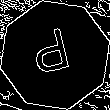P_S: (31, 26, 79, 84)
